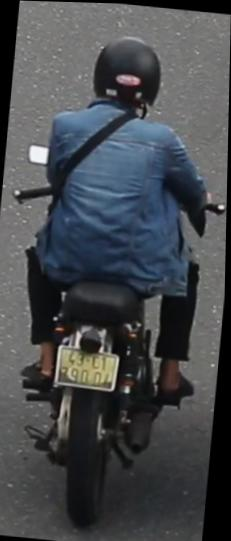LP: (54, 341, 123, 393)
helmet: (88, 28, 169, 113)
